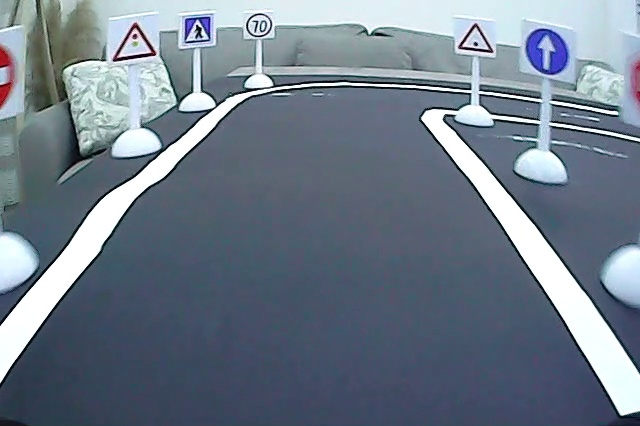green light: (459, 21, 496, 54)
pedestrian crossing: (180, 14, 214, 47)
red light: (111, 18, 160, 64)
speed limit 70: (243, 11, 274, 41)
